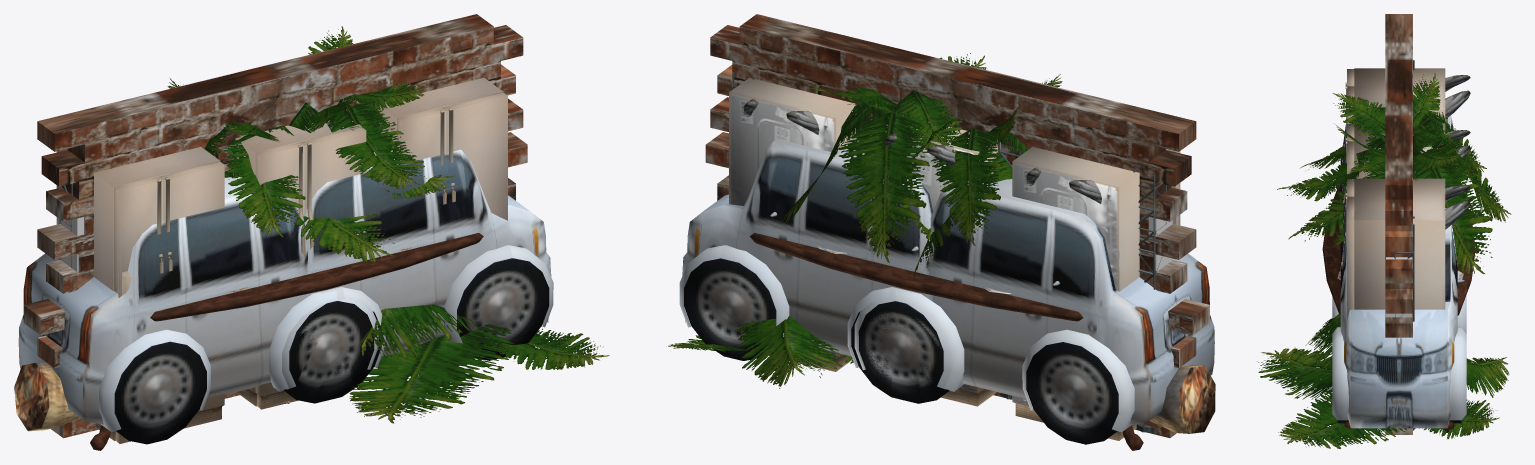
Rendered from Obstacles_Suburb.fbx.
3 renders of one model, left to right at view 1: azimuth 30°, elevation 25°; view 2: azimuth 150°, elevation 25°; view 3: azimuth 270°, elevation 25°, orthographic. The views are drawn at different scales.
Visible parts, largest first — view 1: obstacleJump_Car_LM, obstacleRoadblock_BrickWall.002, obstacleJump_Car_MR, obstacleJump_FallenTree_LMR, obstacleEvade_Trees_LR, obstacleEvade_Fridge_L, obstacleEvade_Fridge_R, obstacleEvade_Fridge_M, obstacleSlide_DinnerTable_LMR; view 2: obstacleJump_Car_LM, obstacleJump_Car_MR, obstacleRoadblock_BrickWall.002, obstacleEvade_Trees_LR, obstacleEvade_Fridge_L, obstacleEvade_Fridge_R, obstacleJump_FallenTree_LMR, obstacleSlide_DinnerTable_LMR, obstacleEvade_Fridge_M, obstacleSlide_Billboard_LM, obstacleSlide_Seagull_L, obstacleSlide_Seagull_R; view 3: obstacleJump_Car_MR, obstacleEvade_Trees_LR, obstacleEvade_Fridge_R, obstacleRoadblock_BrickWall.002, obstacleJump_FallenTree_LMR, obstacleEvade_Fridge_L, obstacleSlide_DinnerTable_LMR, obstacleEvade_Fridge_M, obstacleSlide_Seagull_R, obstacleSlide_Seagull_L, obstacleSlide_Seagull_M.
Part boxes in pixels (x1,y1,x2,y2): obstacleJump_Car_LM: [18, 174, 378, 444]; obstacleRoadblock_BrickWall.002: [23, 14, 527, 438]; obstacleJump_Car_MR: [282, 149, 553, 401]; obstacleJump_FallenTree_LMR: [14, 304, 609, 431]; obstacleEvade_Trees_LR: [167, 26, 454, 263]; obstacleEvade_Fridge_L: [56, 147, 224, 443]; obstacleEvade_Fridge_R: [377, 78, 507, 368]; obstacleEvade_Fridge_M: [235, 120, 366, 409]; obstacleSlide_DinnerTable_LMR: [90, 233, 483, 450]; obstacleJump_Car_LM: [854, 179, 1214, 444]; obstacleJump_Car_MR: [679, 139, 951, 401]; obstacleRoadblock_BrickWall.002: [705, 14, 1209, 437]; obstacleEvade_Trees_LR: [776, 53, 1062, 276]; obstacleEvade_Fridge_L: [1012, 146, 1180, 440]; obstacleEvade_Fridge_R: [729, 77, 856, 371]; obstacleJump_FallenTree_LMR: [666, 316, 1215, 433]; obstacleSlide_DinnerTable_LMR: [750, 233, 1143, 450]; obstacleEvade_Fridge_M: [870, 115, 997, 406]; obstacleSlide_Billboard_LM: [867, 110, 1166, 432]; obstacleSlide_Seagull_L: [1026, 167, 1101, 285]; obstacleSlide_Seagull_R: [743, 98, 819, 216]; obstacleJump_Car_MR: [1332, 187, 1466, 428]; obstacleEvade_Trees_LR: [1277, 73, 1511, 275]; obstacleEvade_Fridge_R: [1342, 178, 1445, 319]; obstacleRoadblock_BrickWall.002: [1385, 14, 1412, 434]; obstacleJump_FallenTree_LMR: [1257, 314, 1509, 448]; obstacleEvade_Fridge_L: [1342, 68, 1445, 146]; obstacleSlide_DinnerTable_LMR: [1322, 185, 1475, 432]; obstacleEvade_Fridge_M: [1342, 123, 1445, 202]; obstacleSlide_Seagull_R: [1445, 185, 1470, 282]; obstacleSlide_Seagull_L: [1445, 75, 1470, 119]; obstacleSlide_Seagull_M: [1445, 130, 1470, 165].
Size of the model in its own units: 448 by 255 by 264.
Materials: 1 (1 with a texture image).
